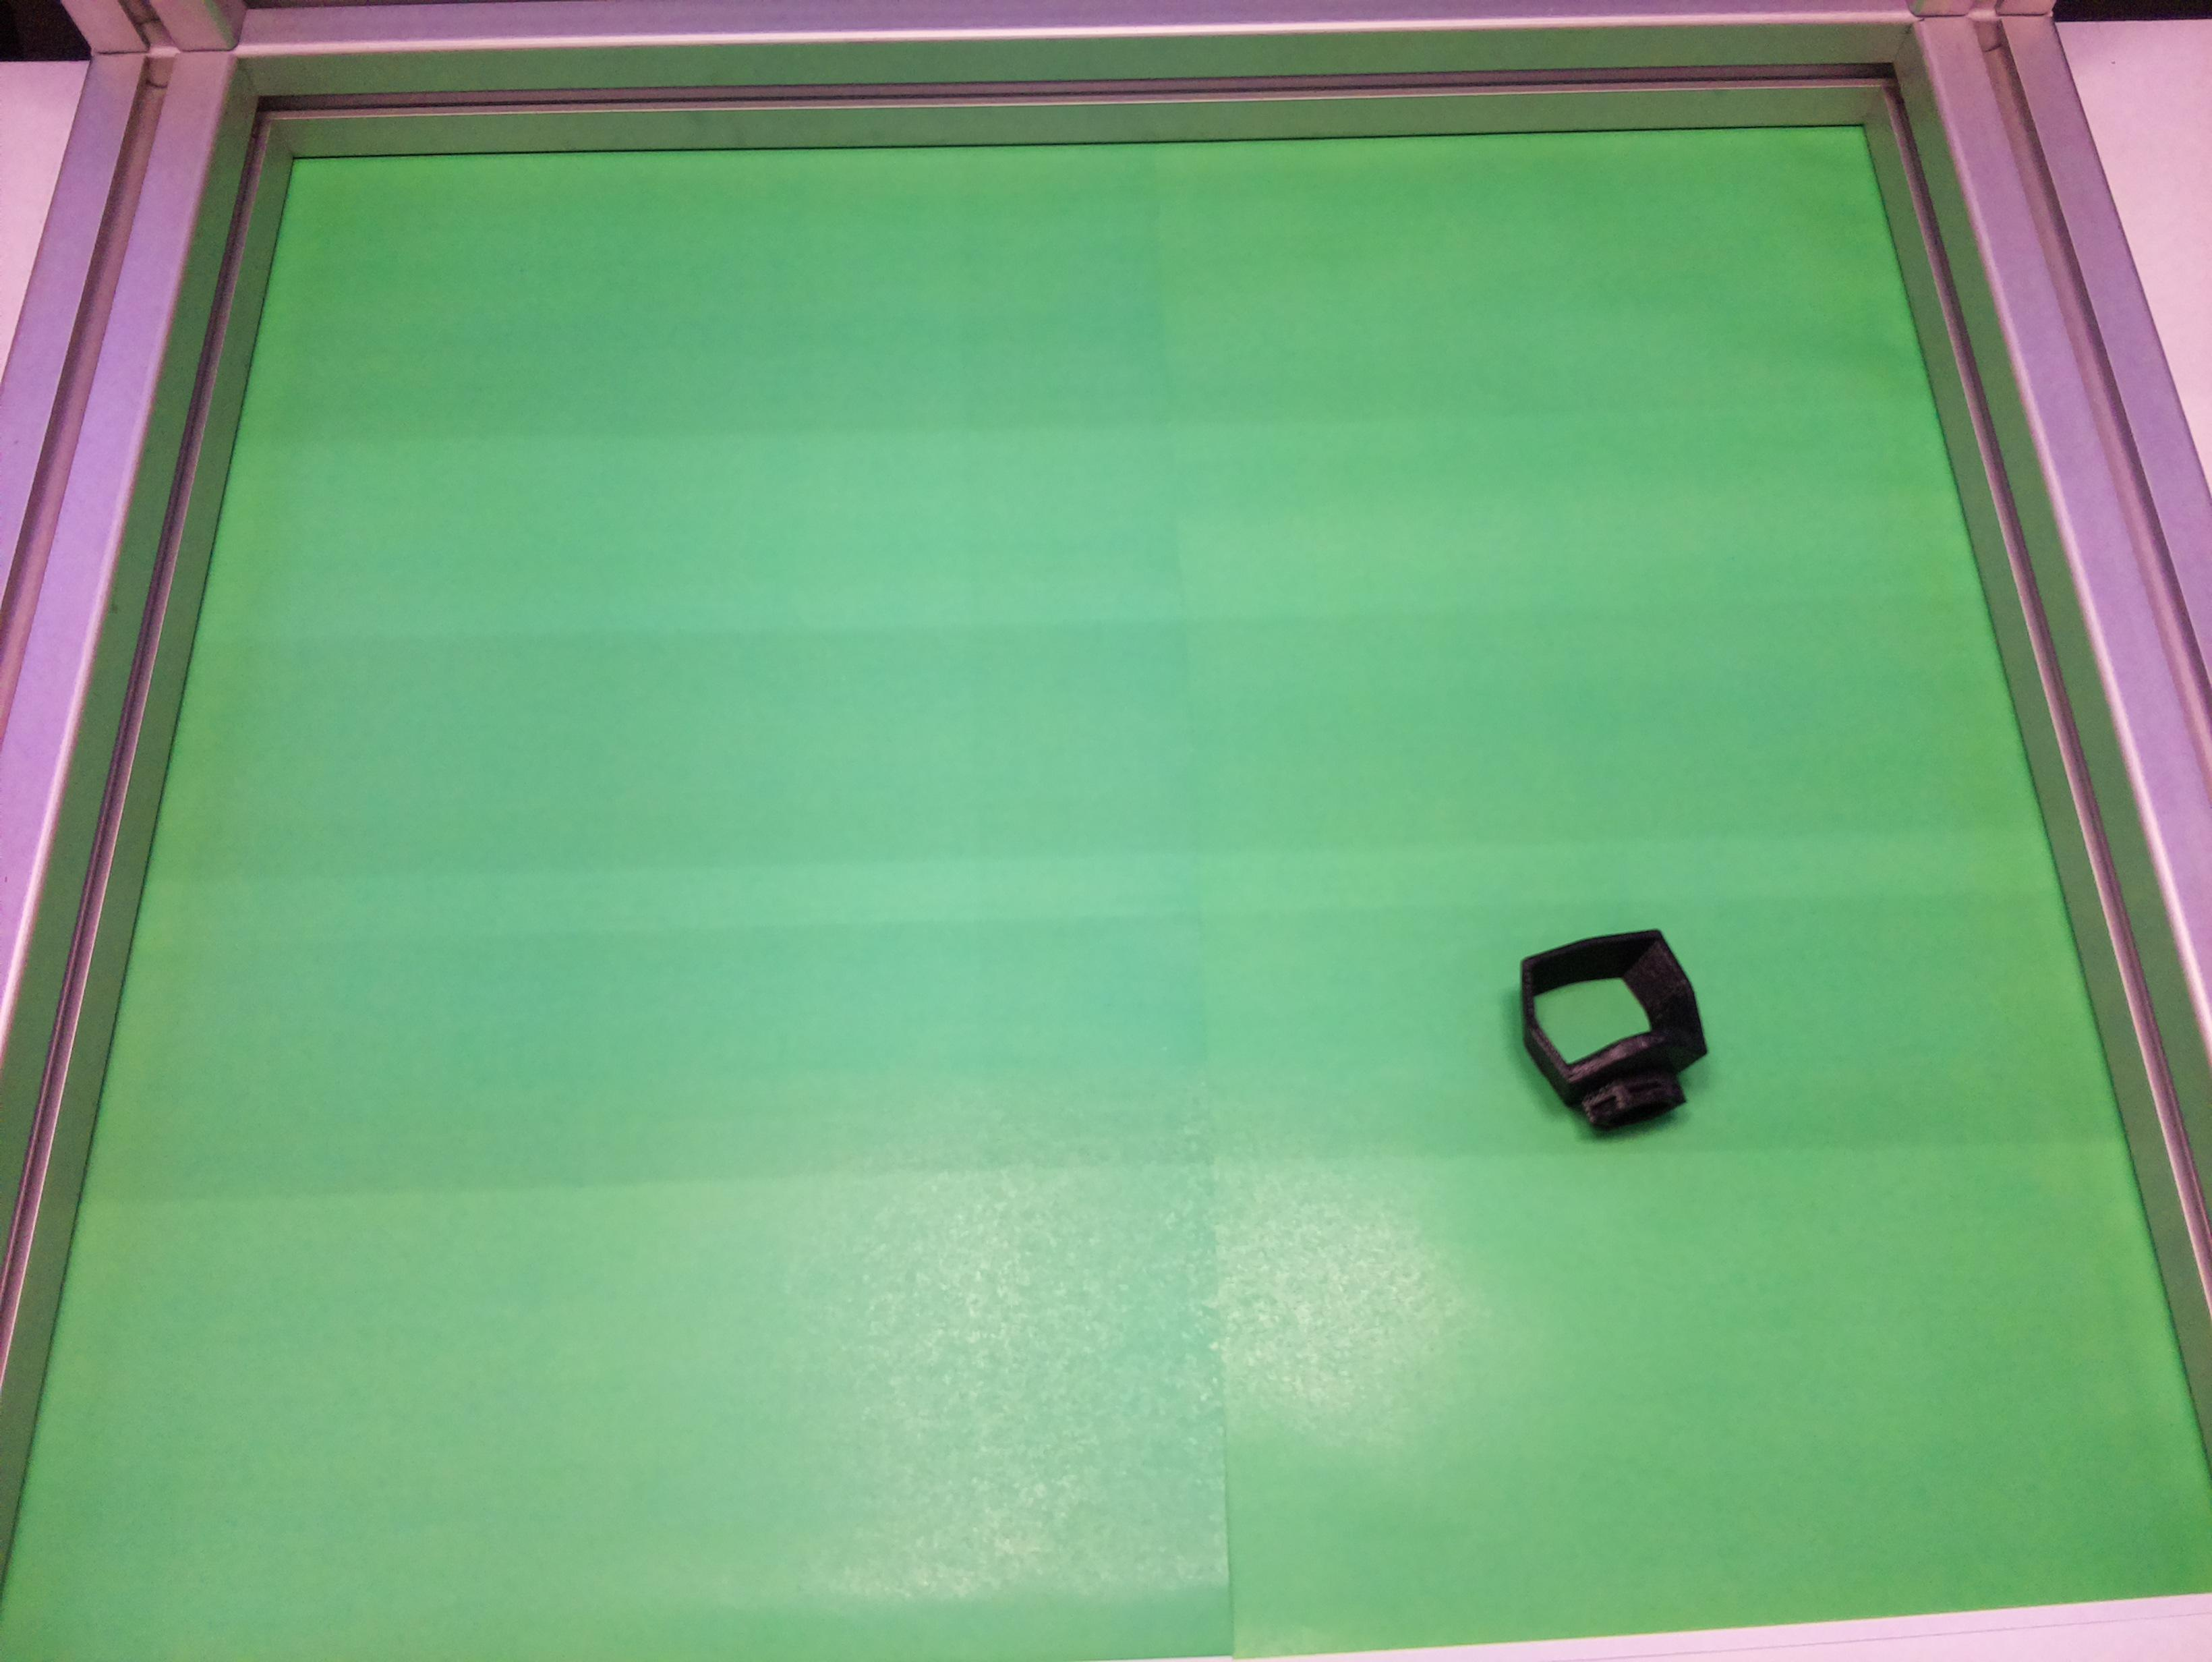scissor_holder: (1503, 917, 1721, 1149)
